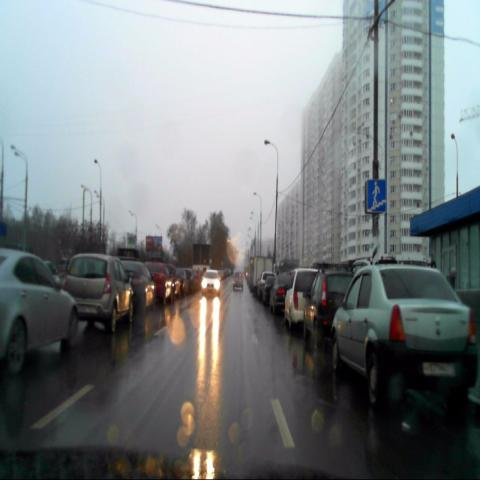6_6: (366, 179, 386, 211)
